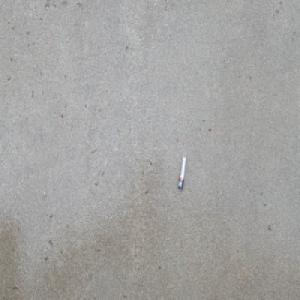Battery: (177, 155, 186, 190)
